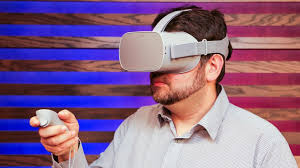oculus: (119, 27, 227, 74)
